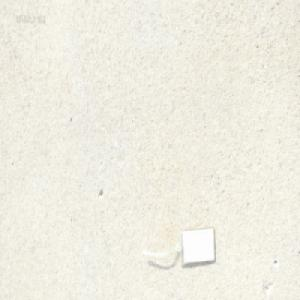LuggageTag: (139, 225, 216, 267)
